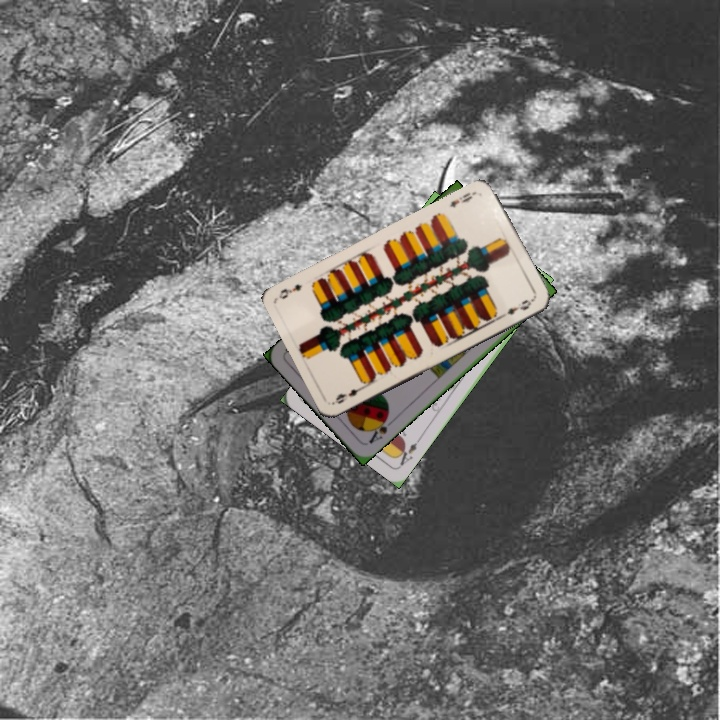E9: (331, 378, 368, 406), (446, 187, 479, 211)
EA: (392, 433, 424, 469)
SA: (365, 411, 397, 447)
